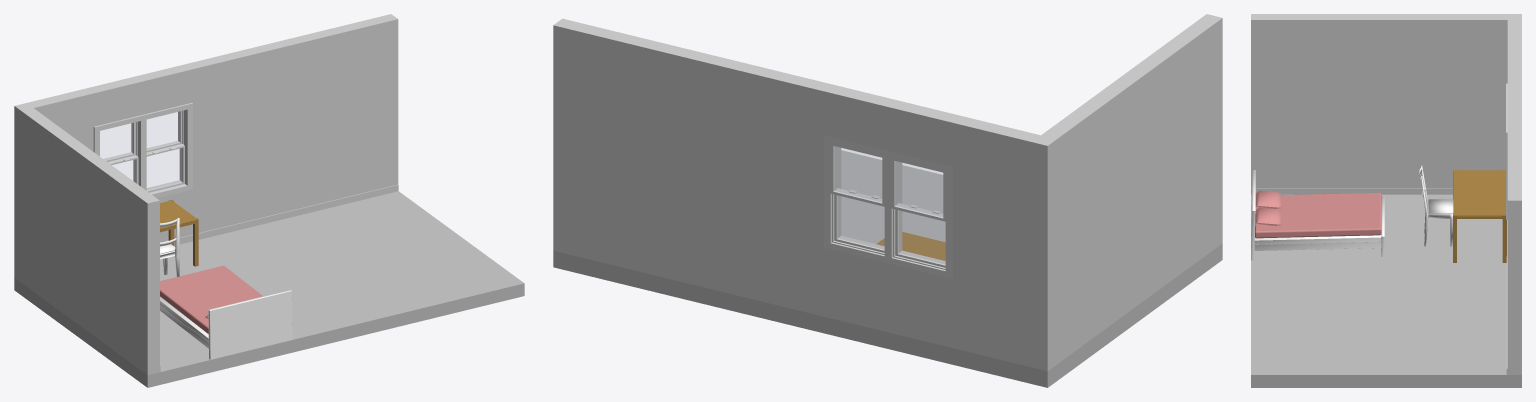
Rendered from L12_W20_furniture2_privacy1.glb.
3 views of the same model, side by side, from view 1: azimuth 30°, elevation 25°; view 2: azimuth 150°, elevation 25°; view 3: azimuth 270°, elevation 25° (orthographic). The views are drawn at different scales.
Size of the model in its own units: 248 by 116 by 152.
